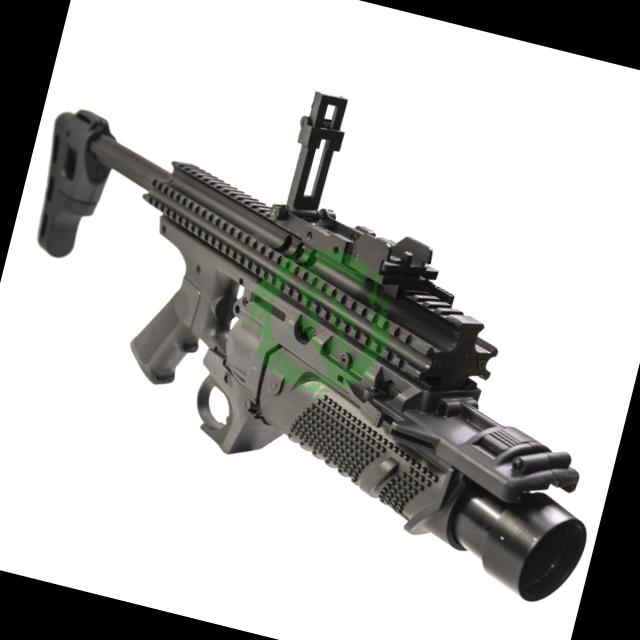Weapon: (0, 6, 640, 628)
